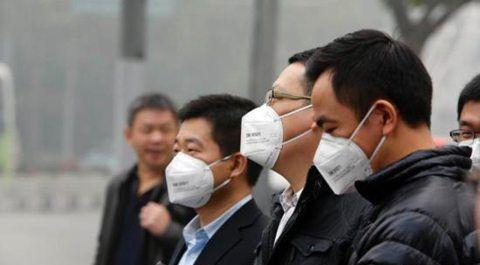NONE: (134, 120, 174, 165)
OK: (311, 110, 391, 190), (251, 83, 316, 170), (165, 134, 238, 209), (454, 108, 480, 182)
